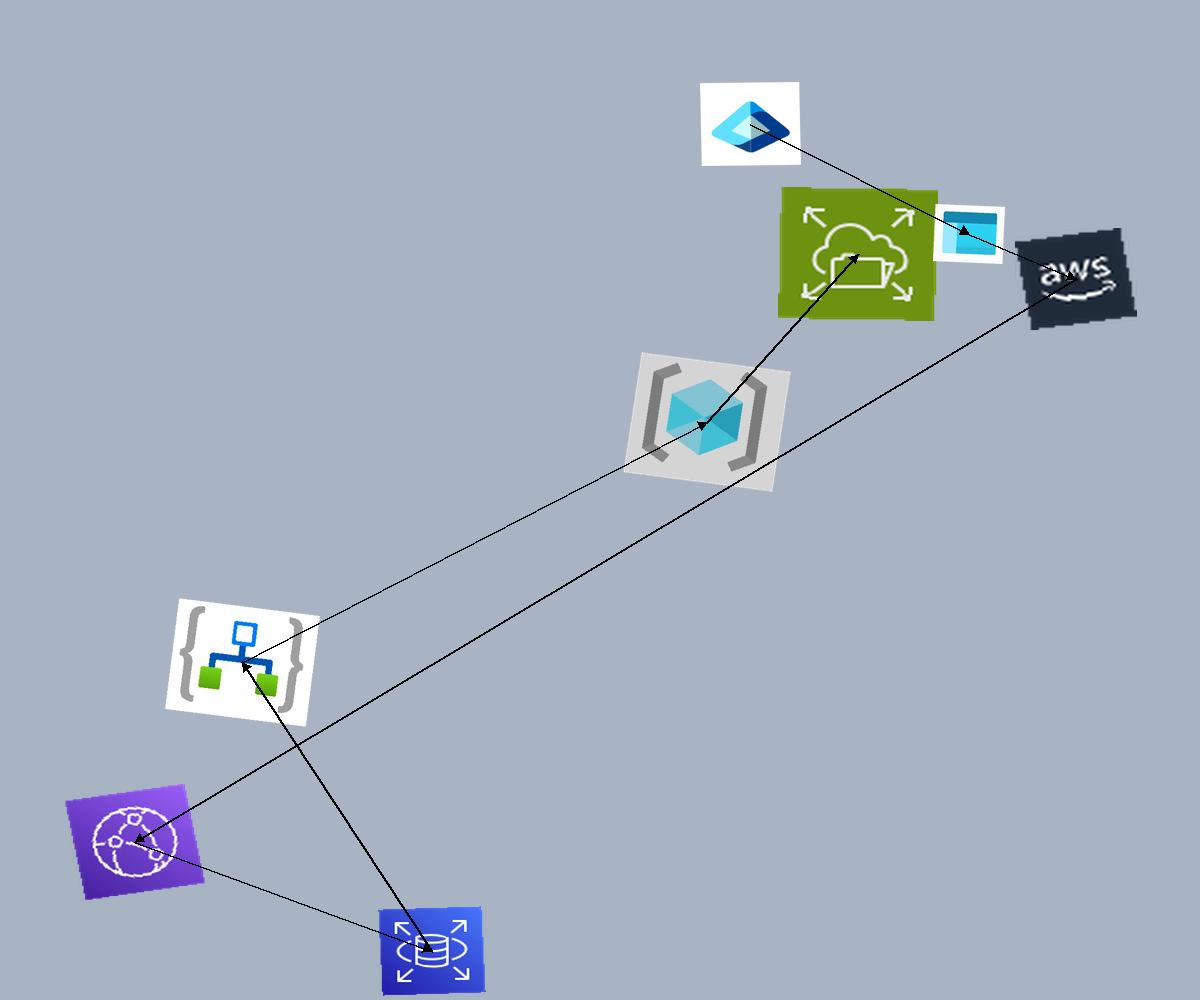AWS-Cloud-logo: (1015, 228, 1137, 330)
AWS-CloudFront: (64, 783, 206, 901)
AWS-EFS: (778, 187, 938, 321)
AWS-RDS: (378, 906, 486, 996)
Azure_integration-204-Logic-Apps: (165, 598, 320, 727)
Azure_management-portal: (933, 204, 1005, 264)
Azure_microsoft_entra: (700, 82, 801, 166)
Azure_resource_group: (623, 352, 791, 492)
